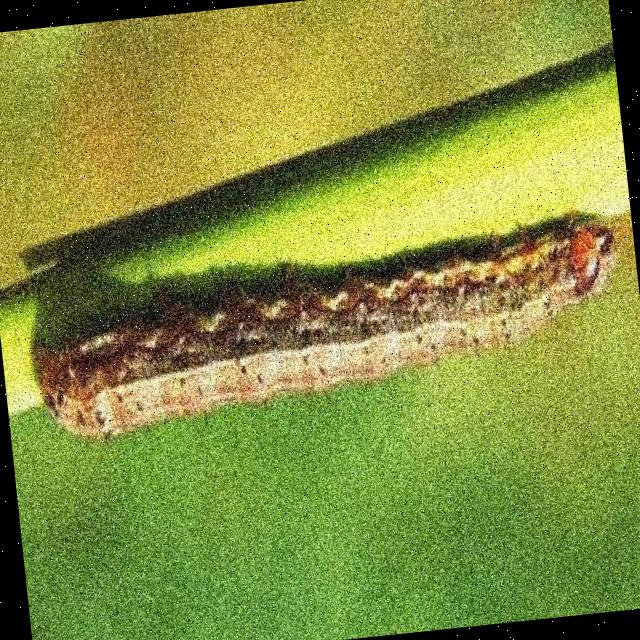worm: (23, 212, 632, 447)
